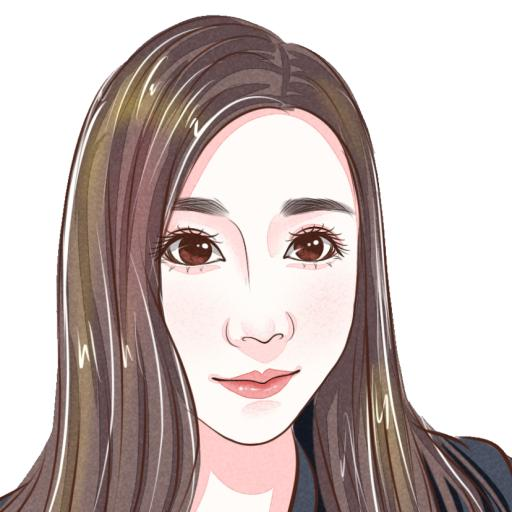NoHuman: (0, 0, 512, 496)
